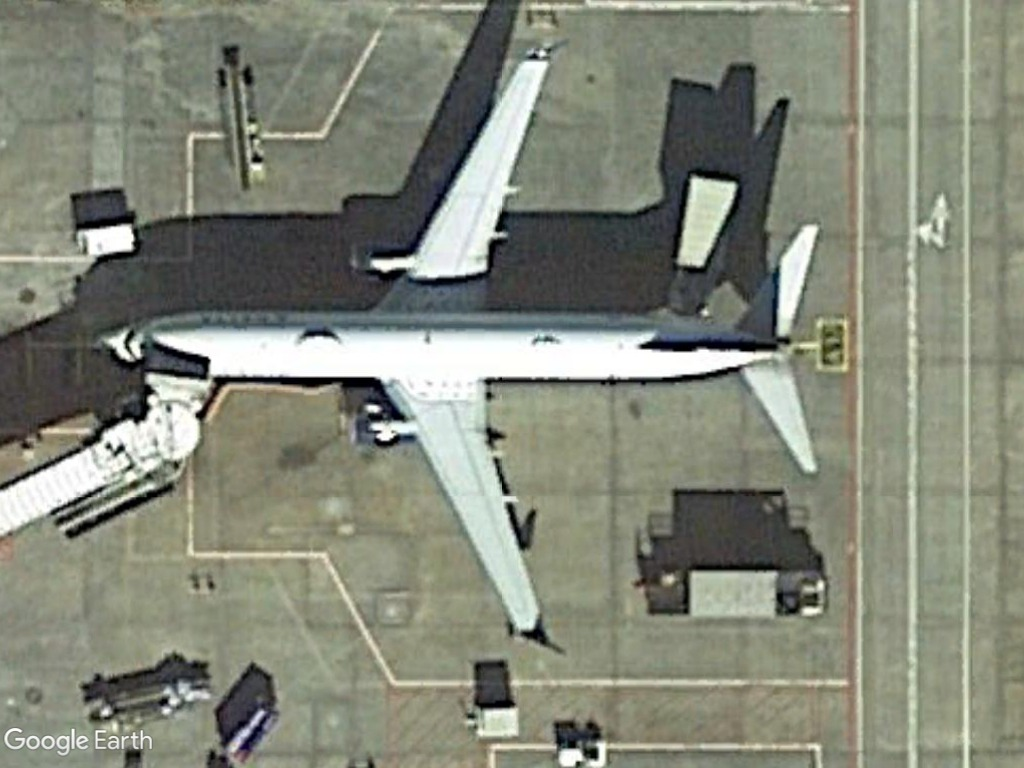airliner: (91, 38, 831, 660)
